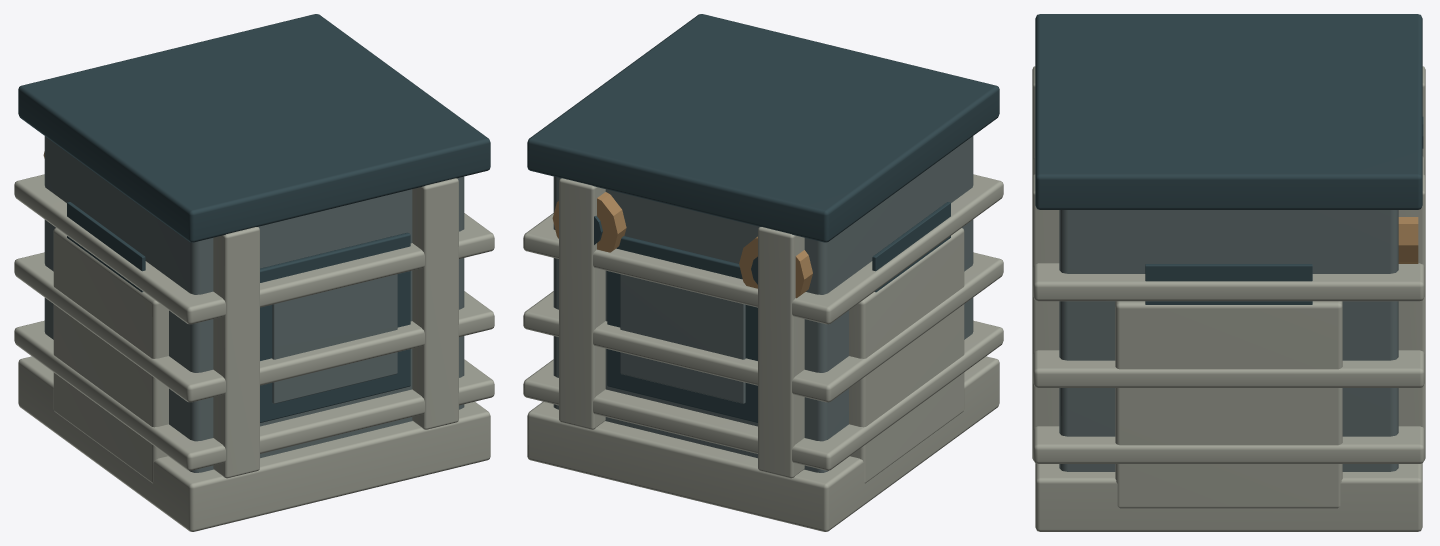
Rendered from abutment-1.glb.
3 views of the same model, side by side, from view 1: azimuth 30°, elevation 25°; view 2: azimuth 150°, elevation 25°; view 3: azimuth 270°, elevation 25° (orthographic). The views are drawn at different scales.
Visible parts, largest first — view 1: abutment_1.001, abutment_2.001, abutment_0.001; view 2: abutment_1.001, abutment_2.001, abutment_0.001, abutment_3.001; view 3: abutment_1.001, abutment_2.001, abutment_0.001, abutment_3.001.
Part boxes in pixels (left/top/right/bottom): abutment_1.001: left=14, top=174, right=494, bottom=531; abutment_2.001: left=18, top=14, right=490, bottom=422; abutment_0.001: left=44, top=136, right=464, bottom=472; abutment_1.001: left=523, top=174, right=1003, bottom=531; abutment_2.001: left=527, top=14, right=999, bottom=422; abutment_0.001: left=553, top=136, right=973, bottom=472; abutment_3.001: left=552, top=192, right=812, bottom=298; abutment_1.001: left=1032, top=66, right=1425, bottom=531; abutment_2.001: left=1035, top=14, right=1423, bottom=304; abutment_0.001: left=1059, top=210, right=1398, bottom=471; abutment_3.001: left=1398, top=217, right=1418, bottom=263.
Size of the model in its own units: 0.99 by 0.99 by 0.985.
